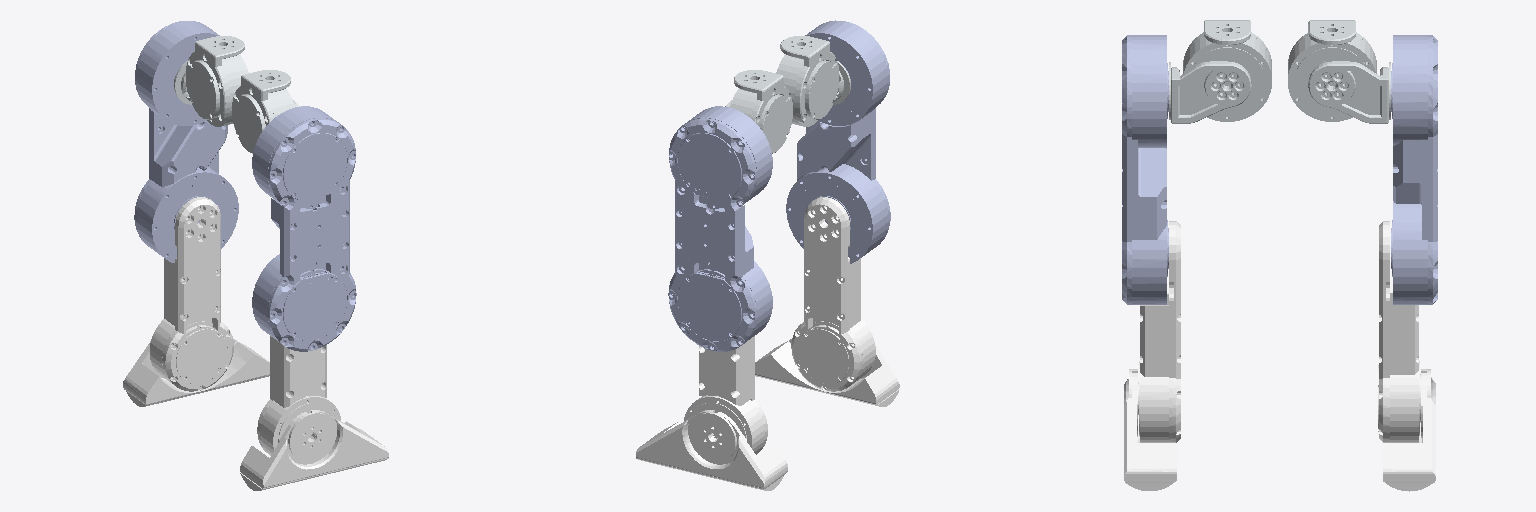
robot.urdf — taitan:
<?xml version="1.0" encoding="utf-8"?>
<!-- This URDF was automatically created by SolidWorks to URDF Exporter! Originally created by [author] ([email redacted]) 
     Commit Version: 1.6.0-4-g7f85cfe  Build Version: 1.6.7995.38578
     For more information, please see http://wiki.ros.org/sw_urdf_exporter -->
<robot
  name="taitan">
  <mujoco>
    <compiler
    	meshdir="../meshes"
    	balanceinertia="true"
    	discardvisual="false" />
  </mujoco>
  <link
    name="base_link">
    <inertial>
      <origin
        xyz="0.00585435803050785 1.4009062083202E-05 0.0548474921870438"
        rpy="0 0 0" />
      <mass
        value="4" />
      <inertia
        ixx="0.0299"
        ixy="0"
        ixz="0"
        iyy="0.0273"
        iyz="0"
        izz="0.0107" />
    </inertial>
    <visual>
      <origin
        xyz="0 0 0"
        rpy="0 0 0" />
      <geometry>
        <mesh
          filename="../meshes/base_link.STL" />
      </geometry>
      <material
        name="">
        <color
          rgba="1 1 1 1" />
      </material>
    </visual>
    <collision>
      <origin
        xyz="0 0 0"
        rpy="0 0 0" />
      <geometry>
        <mesh
          filename="../meshes/base_link.STL" />
      </geometry>
    </collision>
  </link>
  <link
    name="L0_Link">
    <inertial>
      <origin
        xyz="-0.00294137489640708 -2.54825399199493E-05 -0.0410789597035129"
        rpy="0 0 0" />
      <mass
        value="0.389943638059841" />
      <inertia
        ixx="0.0003"
        ixy="0"
        ixz="0"
        iyy="0.0002"
        iyz="0"
        izz="0.0002" />
    </inertial>
    <visual>
      <origin
        xyz="0 0 0"
        rpy="0 0 0" />
      <geometry>
        <mesh
          filename="../meshes/L0_Link.STL" />
      </geometry>
      <material
        name="">
        <color
          rgba="0.898039215686275 0.917647058823529 0.929411764705882 1" />
      </material>
    </visual>
    <collision>
      <origin
        xyz="0 0 0"
        rpy="0 0 0" />
      <geometry>
        <mesh
          filename="../meshes/L0_Link.STL" />
      </geometry>
    </collision>
  </link>
  <joint
    name="J_L0"
    type="revolute">
    <origin
      xyz="0 0.0444705599088642 -0.0371999999999974"
      rpy="0 0 0" />
    <parent
      link="base_link" />
    <child
      link="L0_Link" />
    <axis
      xyz="0 0 1" />
    <limit
      lower="-0.6"
      upper="0.6"
      effort="10"
      velocity="20" />
  </joint>
  <link
    name="L1_Link">
    <inertial>
      <origin
        xyz="-0.000428254367153338 0.025632821274638 -0.00860134346784256"
        rpy="0 0 0" />
      <mass
        value="0.0748963568033087" />
      <inertia
        ixx="4.31603214258508E-05"
        ixy="0"
        ixz="0"
        iyy="2.12456920352261E-05"
        iyz="0"
        izz="3.47985461577559E-05" />
    </inertial>
    <visual>
      <origin
        xyz="0 0 0"
        rpy="0 0 0" />
      <geometry>
        <mesh
          filename="../meshes/L1_Link.STL" />
      </geometry>
      <material
        name="">
        <color
          rgba="0.898039215686275 0.917647058823529 0.929411764705882 1" />
      </material>
    </visual>
    <collision>
      <origin
        xyz="0 0 0"
        rpy="0 0 0" />
      <geometry>
        <mesh
          filename="../meshes/L1_Link.STL" />
      </geometry>
    </collision>
  </link>
  <joint
    name="J_L1"
    type="revolute">
    <origin
      xyz="0.0104583087519197 0 -0.0438694657161047"
      rpy="0 0 0" />
    <parent
      link="L0_Link" />
    <child
      link="L1_Link" />
    <axis
      xyz="-1 0 0" />
    <limit
      lower="-0.37"
      upper="0.49"
      effort="10"
      velocity="20" />
  </joint>
  <link
    name="L2_Link">
    <inertial>
      <origin
        xyz="0.000814288662443971 0.0183404338402413 -0.0736651787162974"
        rpy="0 0 0" />
      <mass
        value="1.35023892060969" />
      <inertia
        ixx="0.00375"
        ixy="0"
        ixz="0"
        iyy="0.00482"
        iyz="0"
        izz="0.00049" />
    </inertial>
    <visual>
      <origin
        xyz="0 0 0"
        rpy="0 0 0" />
      <geometry>
        <mesh
          filename="../meshes/L2_Link.STL" />
      </geometry>
      <material
        name="">
        <color
          rgba="0.792156862745098 0.819607843137255 0.933333333333333 1" />
      </material>
    </visual>
    <collision>
      <origin
        xyz="0 0 0"
        rpy="0 0 0" />
      <geometry>
        <mesh
          filename="../meshes/L2_Link.STL" />
      </geometry>
    </collision>
  </link>
  <joint
    name="J_L2"
    type="revolute">
    <origin
      xyz="-0.0119583087519164 0.0498123723123499 -0.014483473566627"
      rpy="0 0 0" />
    <parent
      link="L1_Link" />
    <child
      link="L2_Link" />
    <axis
      xyz="0 1 0" />
    <limit
      lower="-1.57"
      upper="1.57"
      effort="10"
      velocity="20" />
  </joint>
  <link
    name="L3_Link">
    <inertial>
      <origin
        xyz="-2.56030313915273E-05 0.00525834989513155 -0.117530143021994"
        rpy="0 0 0" />
      <mass
        value="0.511661449917646" />
      <inertia
        ixx="0.0011"
        ixy="0"
        ixz="0"
        iyy="0.0012"
        iyz="0.0001"
        izz="0.0002" />
    </inertial>
    <visual>
      <origin
        xyz="0 0 0"
        rpy="0 0 0" />
      <geometry>
        <mesh
          filename="../meshes/L3_Link.STL" />
      </geometry>
      <material
        name="">
        <color
          rgba="1 1 1 1" />
      </material>
    </visual>
    <collision>
      <origin
        xyz="0 0 0"
        rpy="0 0 0" />
      <geometry>
        <mesh
          filename="../meshes/L3_Link.STL" />
      </geometry>
    </collision>
  </link>
  <joint
    name="J_L3"
    type="revolute">
    <origin
      xyz="0 0.00250000000000164 -0.147377804213185"
      rpy="0 0 0" />
    <parent
      link="L2_Link" />
    <child
      link="L3_Link" />
    <axis
      xyz="0 1 0" />
    <limit
      lower="0"
      upper="2.35"
      effort="20"
      velocity="20" />
  </joint>
  <link
    name="L4_Link_ankel">
    <inertial>
      <origin
        xyz="0.0118539868189318 -0.00567826066822197 -0.0279831955172347"
        rpy="0 0 0" />
      <mass
        value="0.153123306880584" />
      <inertia
        ixx="0.0001"
        ixy="0"
        ixz="0"
        iyy="0.0003"
        iyz="0"
        izz="0.0003" />
    </inertial>
    <visual>
      <origin
        xyz="0 0 0"
        rpy="0 0 0" />
      <geometry>
        <mesh
          filename="../meshes/L4_Link.STL" />
      </geometry>
      <material
        name="">
        <color
          rgba="1 1 1 1" />
      </material>
    </visual>
    <collision>
      <origin
        xyz="0 0 0"
        rpy="0 0 0" />
      <geometry>
        <mesh
          filename="../meshes/L4_Link.STL" />
      </geometry>
    </collision>
  </link>
  <joint
    name="J_L4_ankel"
    type="revolute">
    <origin
      xyz="0 0.0230000000000001 -0.140491430443828"
      rpy="0 0 0" />
    <parent
      link="L3_Link" />
    <child
      link="L4_Link_ankel" />
    <axis
      xyz="0 -1 0" />
    <limit
      lower="-0.95"
      upper="0.95"
      effort="10"
      velocity="20" />
  </joint>
  <link
    name="R0_Link">
    <inertial>
      <origin
        xyz="-0.0029413748964071 -2.55329180031275E-05 -0.0405790096015032"
        rpy="0 0 0" />
      <mass
        value="0.389943638059841" />
      <inertia
        ixx="0.0003"
        ixy="0"
        ixz="0"
        iyy="0.0002"
        iyz="0"
        izz="0.0002" />
    </inertial>
    <visual>
      <origin
        xyz="0 0 0"
        rpy="0 0 0" />
      <geometry>
        <mesh
          filename="../meshes/R0_Link.STL" />
      </geometry>
      <material
        name="">
        <color
          rgba="0.898039215686275 0.917647058823529 0.929411764705882 1" />
      </material>
    </visual>
    <collision>
      <origin
        xyz="0 0 0"
        rpy="0 0 0" />
      <geometry>
        <mesh
          filename="../meshes/R0_Link.STL" />
      </geometry>
    </collision>
  </link>
  <joint
    name="J_R0"
    type="revolute">
    <origin
      xyz="0 -0.0444705599088642 -0.0377"
      rpy="0 0 0" />
    <parent
      link="base_link" />
    <child
      link="R0_Link" />
    <axis
      xyz="0 0 1" />
    <limit
      lower="-0.6"
      upper="0.6"
      effort="10"
      velocity="20" />
  </joint>
  <link
    name="R1_Link">
    <inertial>
      <origin
        xyz="-0.000417158180163343 -0.0255979663346856 -0.00859270822921365"
        rpy="0 0 0" />
      <mass
        value="0.0747884634401012" />
      <inertia
        ixx="4.30774608747953E-05"
        ixy="0"
        ixz="0"
        iyy="2.12071220587149E-05"
        iyz="0"
        izz="3.47136743221189E-05" />
    </inertial>
    <visual>
      <origin
        xyz="0 0 0"
        rpy="0 0 0" />
      <geometry>
        <mesh
          filename="../meshes/R1_Link.STL" />
      </geometry>
      <material
        name="">
        <color
          rgba="0.898039215686275 0.917647058823529 0.929411764705882 1" />
      </material>
    </visual>
    <collision>
      <origin
        xyz="0 0 0"
        rpy="0 0 0" />
      <geometry>
        <mesh
          filename="../meshes/R1_Link.STL" />
      </geometry>
    </collision>
  </link>
  <joint
    name="J_R1"
    type="revolute">
    <origin
      xyz="0.0104583087519197 0 -0.0433694657161047"
      rpy="0 0 0" />
    <parent
      link="R0_Link" />
    <child
      link="R1_Link" />
    <axis
      xyz="-1 0 0" />
    <limit
      lower="-0.49"
      upper="0.37"
      effort="10"
      velocity="20" />
  </joint>
  <link
    name="R2_Link">
    <inertial>
      <origin
        xyz="0.00081512438595488 -0.0158195463488212 -0.0738433155376505"
        rpy="0 0 0" />
      <mass
        value="1.34863094483346" />
      <inertia
        ixx="0.00375"
        ixy="0"
        ixz="0"
        iyy="0.00482"
        iyz="0"
        izz="0.00049" />
    </inertial>
    <visual>
      <origin
        xyz="0 0 0"
        rpy="0 0 0" />
      <geometry>
        <mesh
          filename="../meshes/R2_Link.STL" />
      </geometry>
      <material
        name="">
        <color
          rgba="0.792156862745098 0.819607843137255 0.933333333333333 1" />
      </material>
    </visual>
    <collision>
      <origin
        xyz="0 0 0"
        rpy="0 0 0" />
      <geometry>
        <mesh
          filename="../meshes/R2_Link.STL" />
      </geometry>
    </collision>
  </link>
  <joint
    name="J_R2"
    type="revolute">
    <origin
      xyz="-0.0119583087519198 -0.0522802847375496 -0.0144834735666169"
      rpy="0 0 0" />
    <parent
      link="R1_Link" />
    <child
      link="R2_Link" />
    <axis
      xyz="0 -1 0" />
    <limit
      lower="-1.57"
      upper="1.57"
      effort="20"
      velocity="20" />
  </joint>
  <link
    name="R3_Link">
    <inertial>
      <origin
        xyz="2.21539523132114E-05 -0.00575834989513131 -0.117628205349959"
        rpy="0 0 0" />
      <mass
        value="0.511661449917647" />
      <inertia
        ixx="0.0011"
        ixy="0"
        ixz="0"
        iyy="0.0012"
        iyz="-0.0001"
        izz="0.0002" />
    </inertial>
    <visual>
      <origin
        xyz="0 0 0"
        rpy="0 0 0" />
      <geometry>
        <mesh
          filename="../meshes/R3_Link.STL" />
      </geometry>
      <material
        name="">
        <color
          rgba="1 1 1 1" />
      </material>
    </visual>
    <collision>
      <origin
        xyz="0 0 0"
        rpy="0 0 0" />
      <geometry>
        <mesh
          filename="../meshes/R3_Link.STL" />
      </geometry>
    </collision>
  </link>
  <joint
    name="J_R3"
    type="revolute">
    <origin
      xyz="0 0 -0.147377804213192"
      rpy="0 0 0" />
    <parent
      link="R2_Link" />
    <child
      link="R3_Link" />
    <axis
      xyz="0 -1 0" />
    <limit
      lower="-2.35"
      upper="0"
      effort="20"
      velocity="20" />
  </joint>
  <link
    name="R4_Link_ankel">
    <inertial>
      <origin
        xyz="0.0140715809051761 0.00554706284200454 -0.0279862689026726"
        rpy="0 0 0" />
      <mass
        value="0.147848447328085" />
      <inertia
        ixx="0.0001"
        ixy="0"
        ixz="0"
        iyy="0.0003"
        iyz="0"
        izz="0.0003" />
    </inertial>
    <visual>
      <origin
        xyz="0 0 0"
        rpy="0 0 0" />
      <geometry>
        <mesh
          filename="../meshes/R4_Link.STL" />
      </geometry>
      <material
        name="">
        <color
          rgba="1 1 1 1" />
      </material>
    </visual>
    <collision>
      <origin
        xyz="0 0 0"
        rpy="0 0 0" />
      <geometry>
        <mesh
          filename="../meshes/R4_Link.STL" />
      </geometry>
    </collision>
  </link>
  <joint
    name="J_R4_ankel"
    type="revolute">
    <origin
      xyz="0 -0.0234999999999999 -0.140628511733645"
      rpy="0 0 0" />
    <parent
      link="R3_Link" />
    <child
      link="R4_Link_ankel" />
    <axis
      xyz="0 -1 0" />
    <limit
      lower="-0.95"
      upper="0.95"
      effort="10"
      velocity="20" />
  </joint>
</robot>

--- Render facts (derived) ---
3 views of the same robot in one strip: view 1: azimuth 30°, elevation 25°; view 2: azimuth 150°, elevation 25°; view 3: azimuth 270°, elevation 25° (orthographic).
Robot: taitan — 11 links, 10 joints (10 revolute); root link base_link; default pose: all joints at 0.
Visible links, largest first — view 1: R2_Link, L2_Link, L3_Link, R4_Link_ankel, R3_Link, L0_Link, L4_Link_ankel, R0_Link; view 2: L2_Link, R2_Link, R3_Link, L4_Link_ankel, L3_Link, R0_Link, L0_Link, R4_Link_ankel; view 3: L2_Link, R2_Link, R3_Link, L3_Link, L0_Link, R0_Link, L1_Link, R1_Link, L4_Link_ankel, R4_Link_ankel.
Link boxes in pixels (left/top/right/bottom): R2_Link: left=252, top=106, right=356, bottom=351; L2_Link: left=134, top=21, right=238, bottom=262; L3_Link: left=150, top=197, right=233, bottom=391; R4_Link_ankel: left=240, top=410, right=388, bottom=490; R3_Link: left=257, top=336, right=340, bottom=455; L0_Link: left=186, top=36, right=248, bottom=126; L4_Link_ankel: left=123, top=339, right=269, bottom=406; R0_Link: left=232, top=70, right=294, bottom=153; L2_Link: left=668, top=106, right=772, bottom=351; R2_Link: left=786, top=20, right=890, bottom=263; R3_Link: left=791, top=197, right=875, bottom=391; L4_Link_ankel: left=636, top=410, right=787, bottom=490; L3_Link: left=684, top=336, right=767, bottom=454; R0_Link: left=776, top=36, right=839, bottom=126; L0_Link: left=730, top=70, right=792, bottom=153; R4_Link_ankel: left=755, top=339, right=899, bottom=406; L2_Link: left=1391, top=35, right=1437, bottom=304; R2_Link: left=1122, top=35, right=1168, bottom=304; R3_Link: left=1138, top=221, right=1180, bottom=442; L3_Link: left=1378, top=221, right=1420, bottom=442; L0_Link: left=1288, top=20, right=1376, bottom=121; R0_Link: left=1183, top=20, right=1271, bottom=121; L1_Link: left=1308, top=61, right=1390, bottom=123; R1_Link: left=1169, top=61, right=1251, bottom=123; L4_Link_ankel: left=1383, top=369, right=1435, bottom=491; R4_Link_ankel: left=1124, top=369, right=1176, bottom=490.
Size in the robot's own frame: 0.1422 by 0.2685 by 0.3943 metres.
10 mesh visuals loaded from 11 distinct referenced files (10 binary STL); not drawn: 1 (reference not matched to a file when rendering).